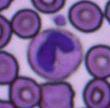E: (28, 29, 82, 80)
